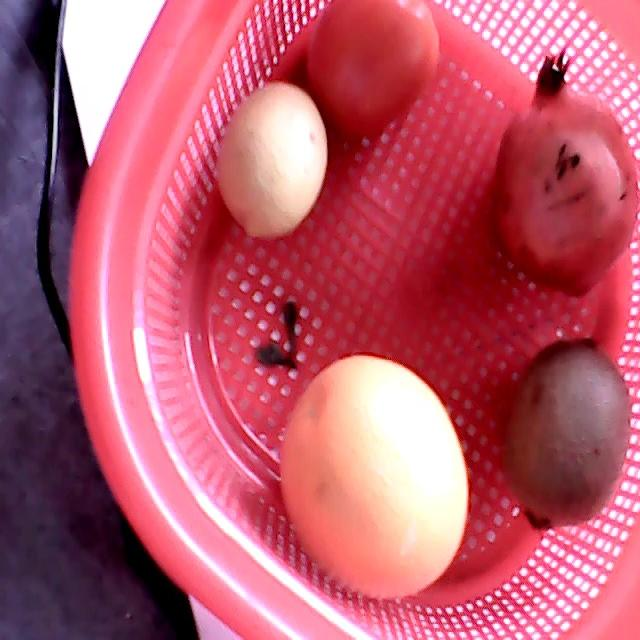kiwi: (499, 334, 631, 532)
lemon: (218, 83, 328, 235)
orange: (279, 358, 468, 600)
pomegranate: (491, 46, 639, 294)
tomato: (305, 1, 442, 137)
